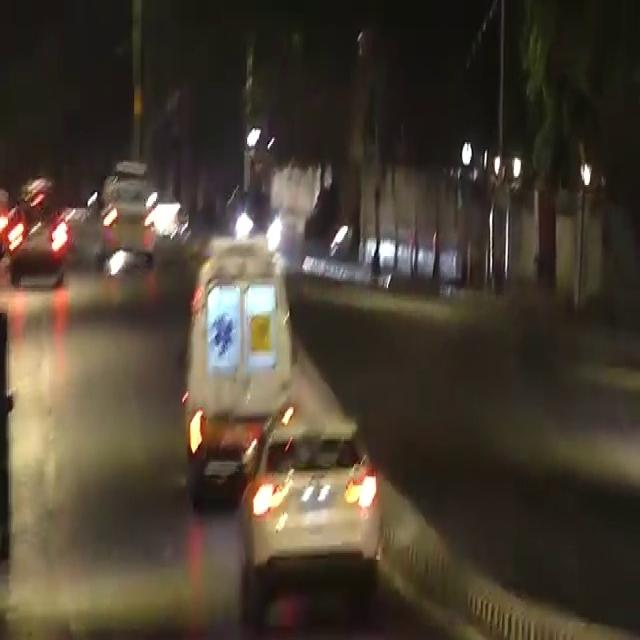ambulance: (192, 228, 290, 457)
